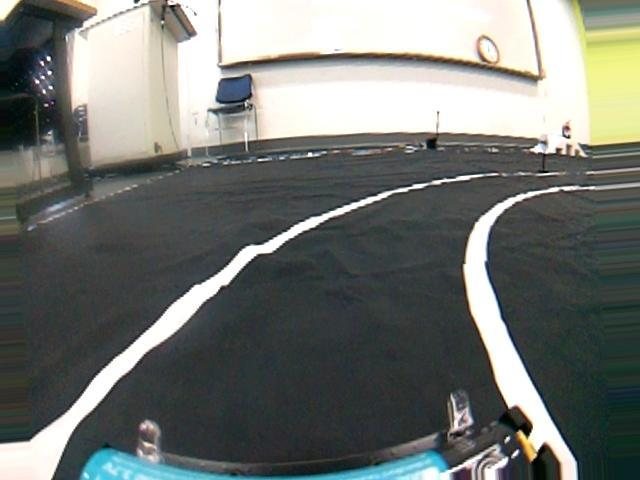right: (0, 149, 640, 480)
